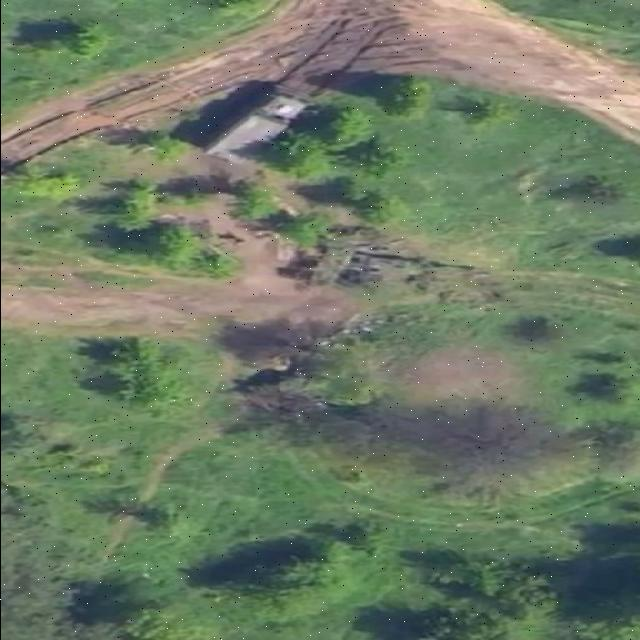ART: (322, 236, 484, 292)
TRUCK: (191, 82, 311, 164)
